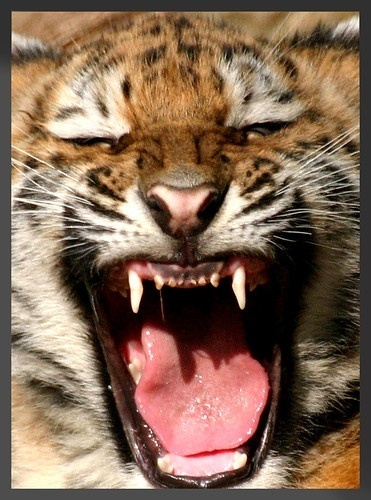tigre: (11, 13, 361, 490)
